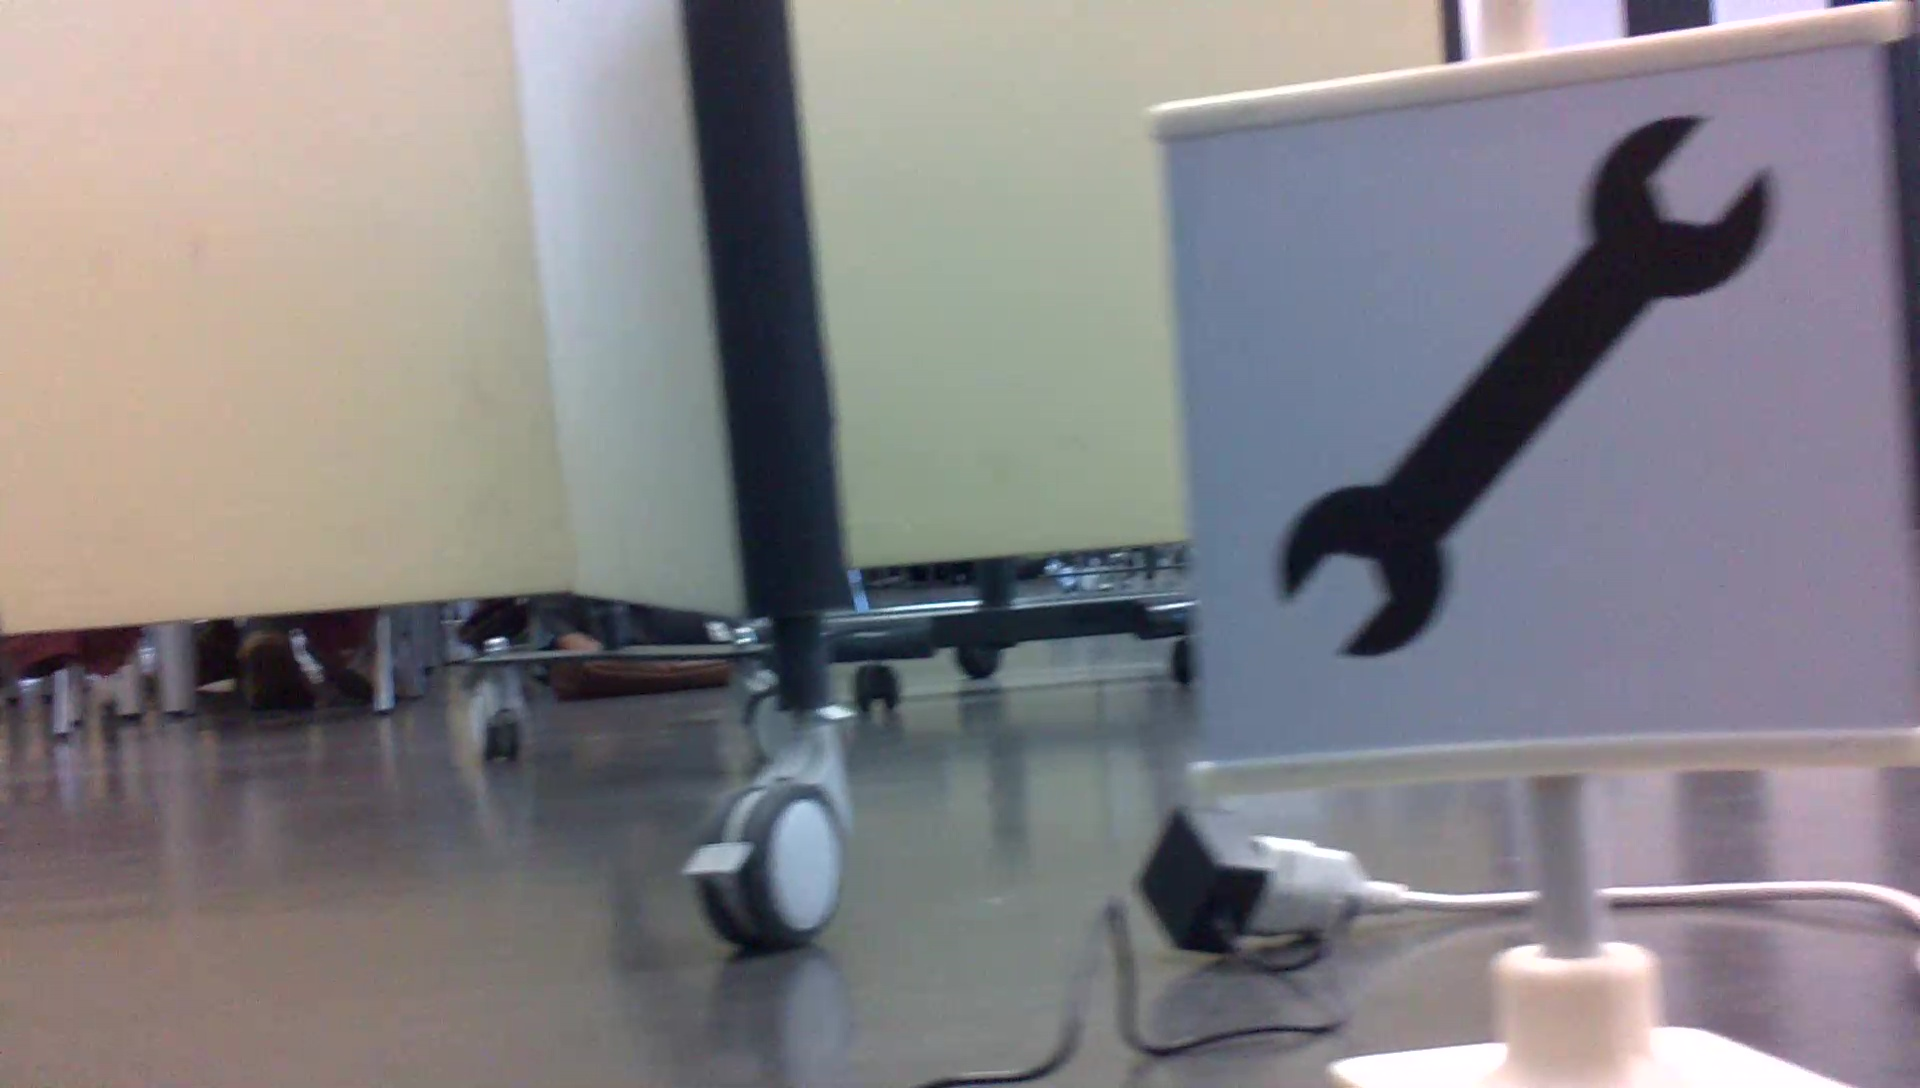wrench: (1267, 102, 1803, 667)
